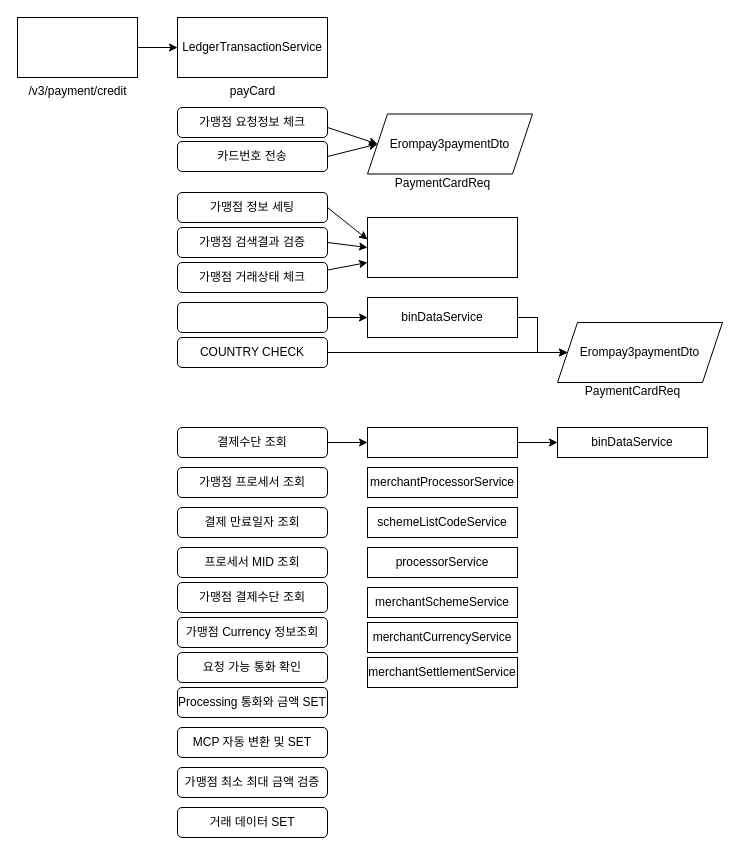
Some shapes in this 740 by 855 pixel diagram are drawn without their labels. Here are the shapes that lost their labels. From the top down, the box of each, then its label:
(16, 16, 138, 78): PaymentController
(366, 216, 518, 278): MerchantAccountService
(176, 302, 328, 332): 카드빈 SET
(366, 426, 518, 458): schemeListService
